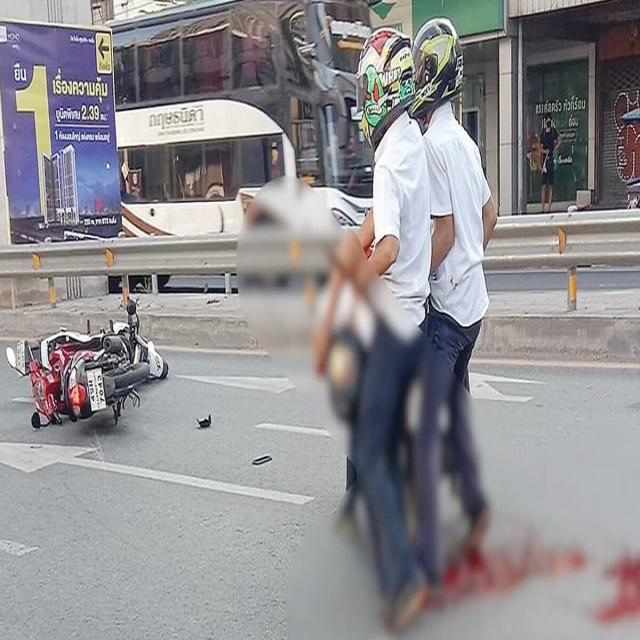helmet: (350, 27, 415, 128), (417, 15, 472, 111)
